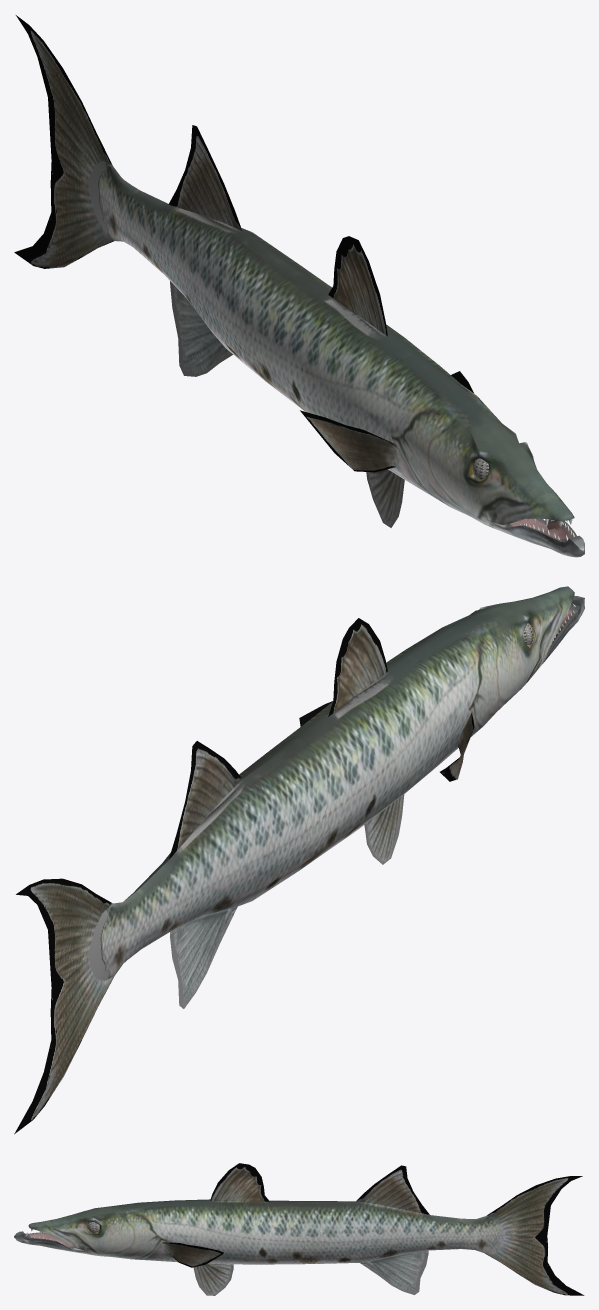
File: barracuda.glb
3 views of the same model, one above another, from view 1: azimuth 30°, elevation 25°; view 2: azimuth 150°, elevation 25°; view 3: azimuth 270°, elevation 25° (orthographic). The views are drawn at different scales.
Parts seen in each view (by area): view 1: Object_2; view 2: Object_2; view 3: Object_2.
Part boxes in pixels (left/top/right/bottom): Object_2: left=14, top=15, right=584, bottom=557; Object_2: left=14, top=586, right=584, bottom=1134; Object_2: left=14, top=1163, right=584, bottom=1295.
Size of the model in its own units: 0.4069 by 0.6415 by 2.5.
1 material, 1 textured.
